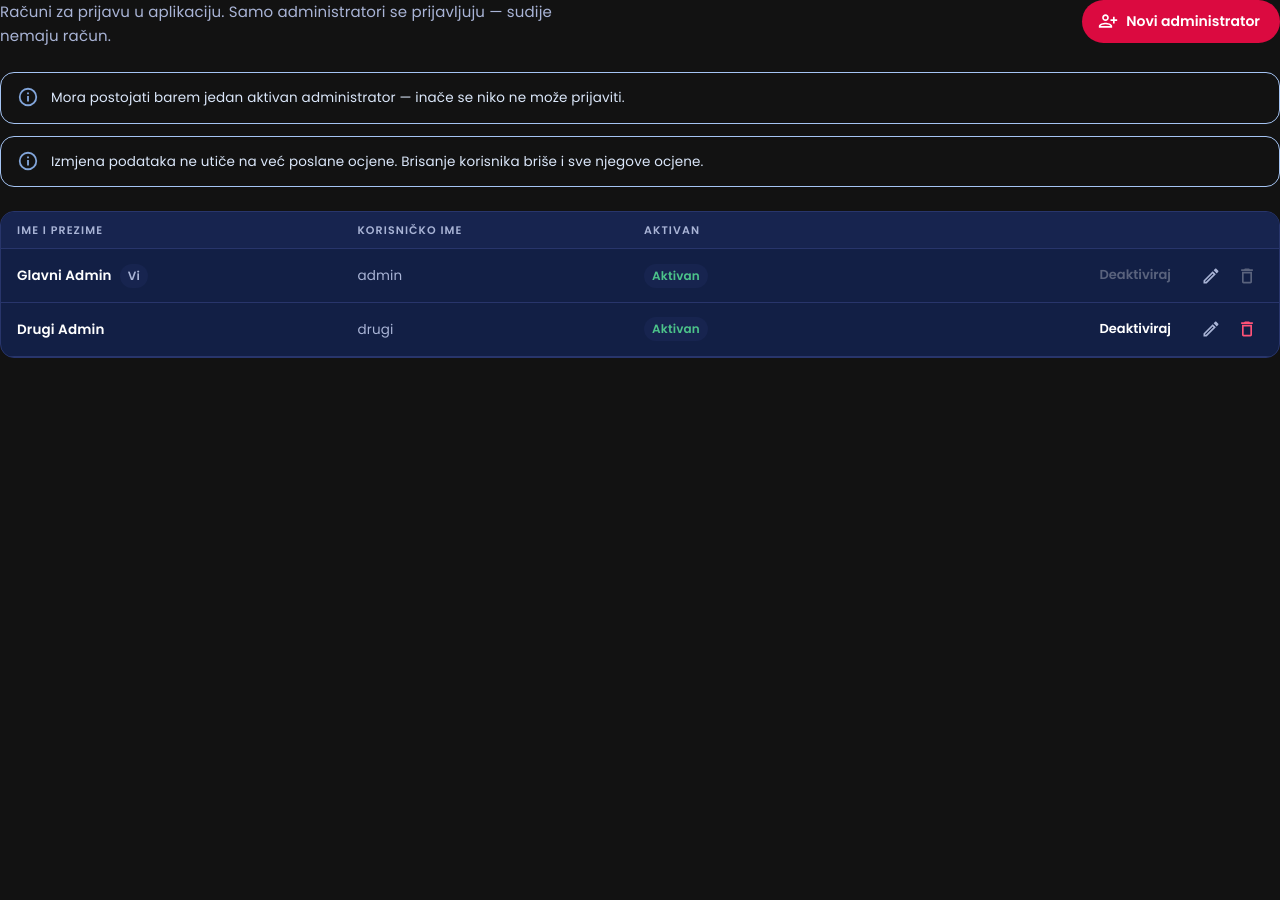
Test: UsersTab › backs out of deleting an administrator
Expected: the text "Drugi Admin" is shown, 1,302 -> 342,356
Click the button named "Obrisati korisnika? Drugi Admin". click: (1247, 329)
box: 1231,313 -> 1263,345
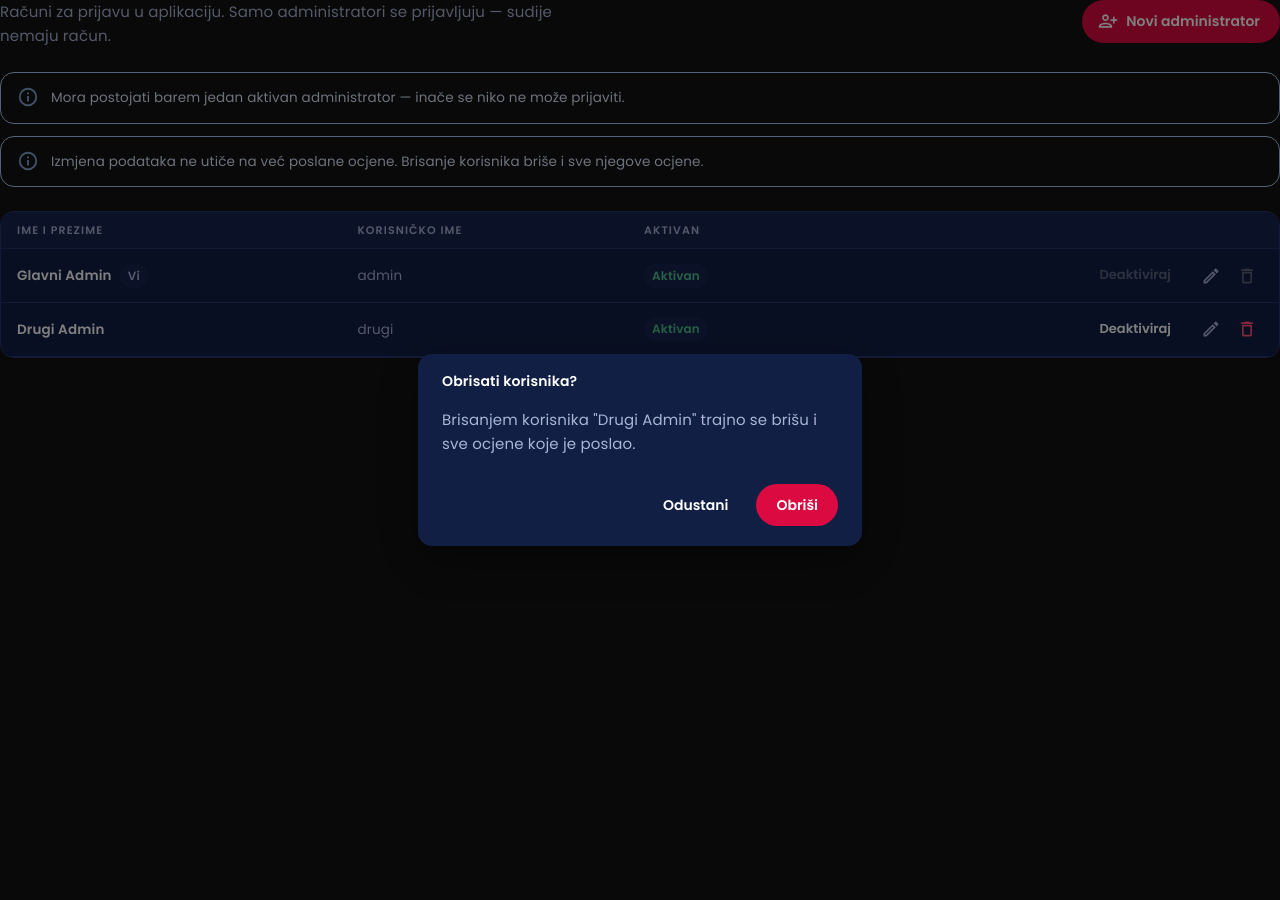
Click the button "Odustani". click: (696, 505)
box: 643,484 -> 748,526
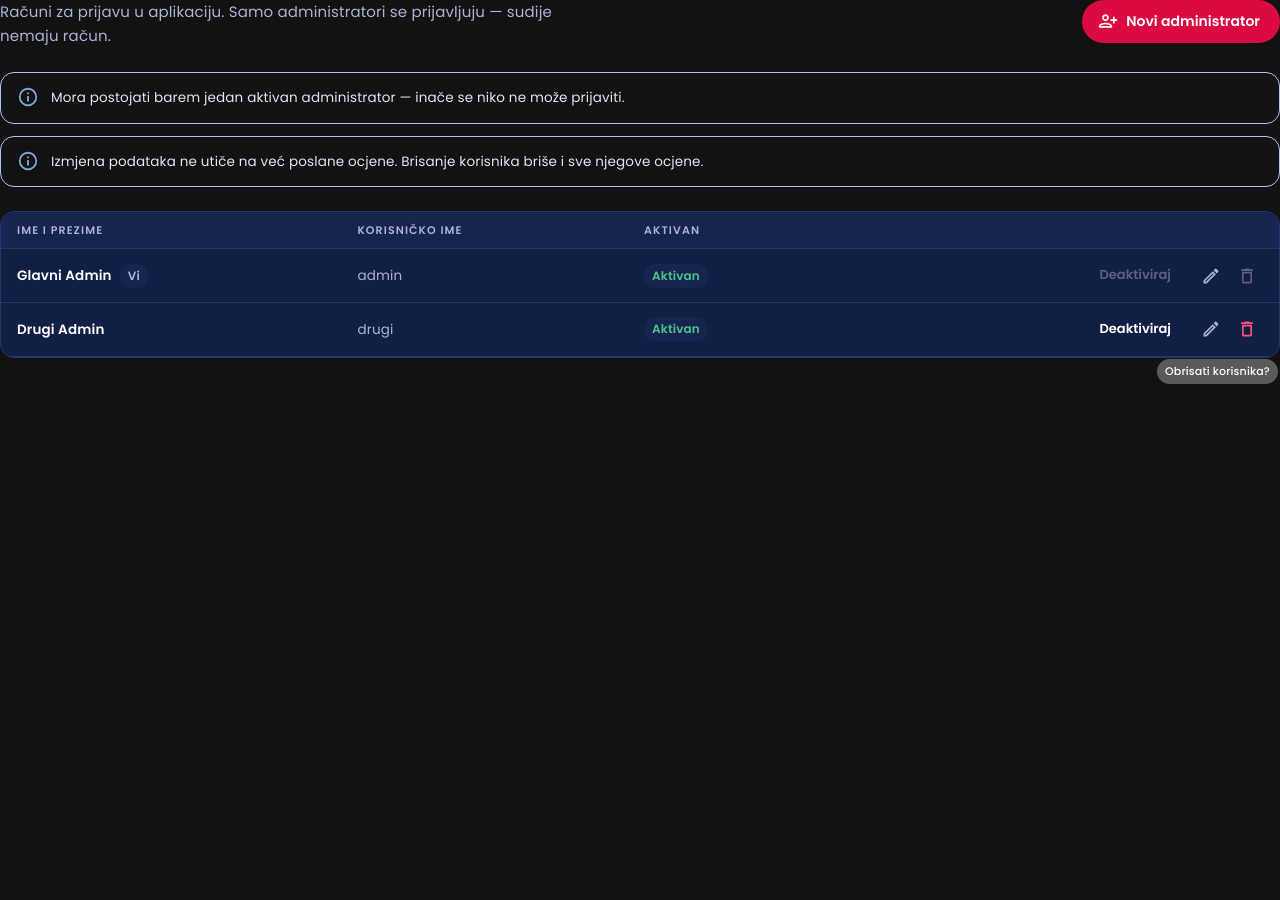
Expected: the dialog is gone
